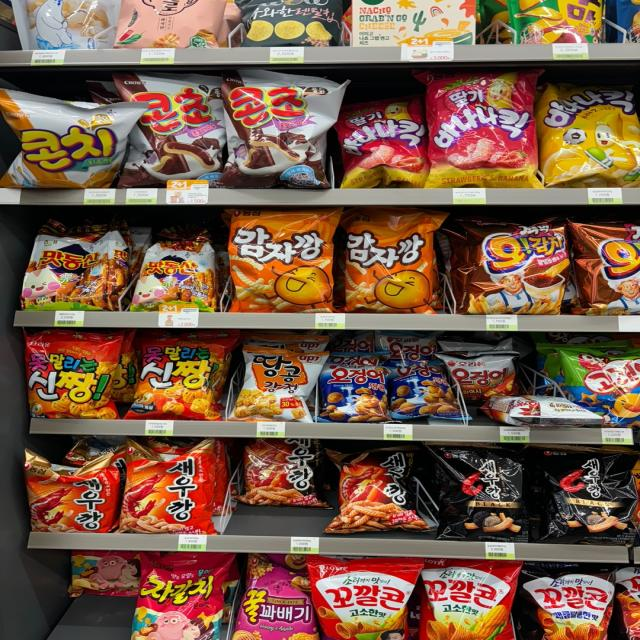product: (428, 73, 544, 191), (230, 68, 339, 190), (124, 72, 230, 185), (228, 204, 340, 308), (462, 215, 574, 317), (344, 215, 447, 312), (23, 232, 125, 313), (132, 337, 234, 418), (26, 335, 120, 421), (543, 453, 627, 547), (126, 452, 217, 538), (438, 450, 527, 536), (24, 456, 121, 534), (345, 106, 427, 183), (240, 346, 323, 421), (332, 451, 415, 525), (243, 440, 320, 506), (321, 361, 390, 419), (395, 362, 456, 417)
